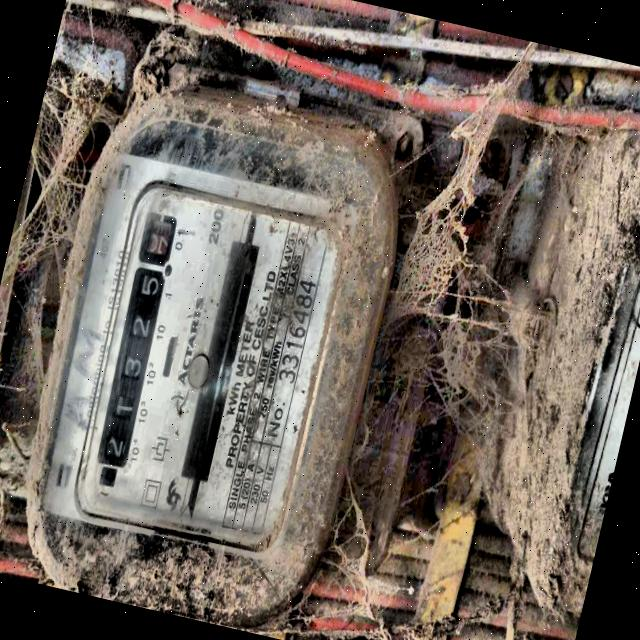Analog: (0, 73, 429, 640)
Reading: (99, 224, 176, 460)
Serial No.: (274, 269, 320, 392)
